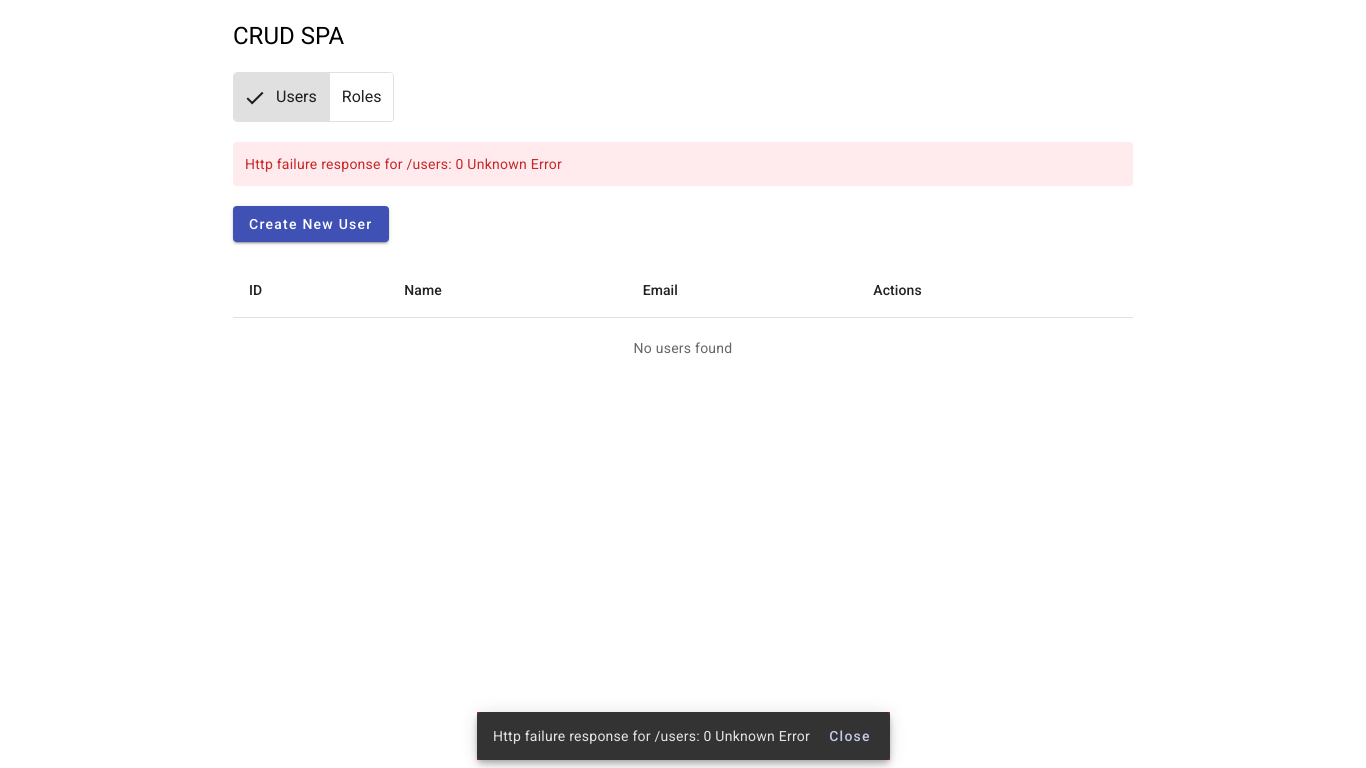
Test case: User CRUD SPA › US2: Create User › should show validation error for empty email
Click the button "Create New User": (311, 224) top-left (233, 206), bottom-right (389, 242)
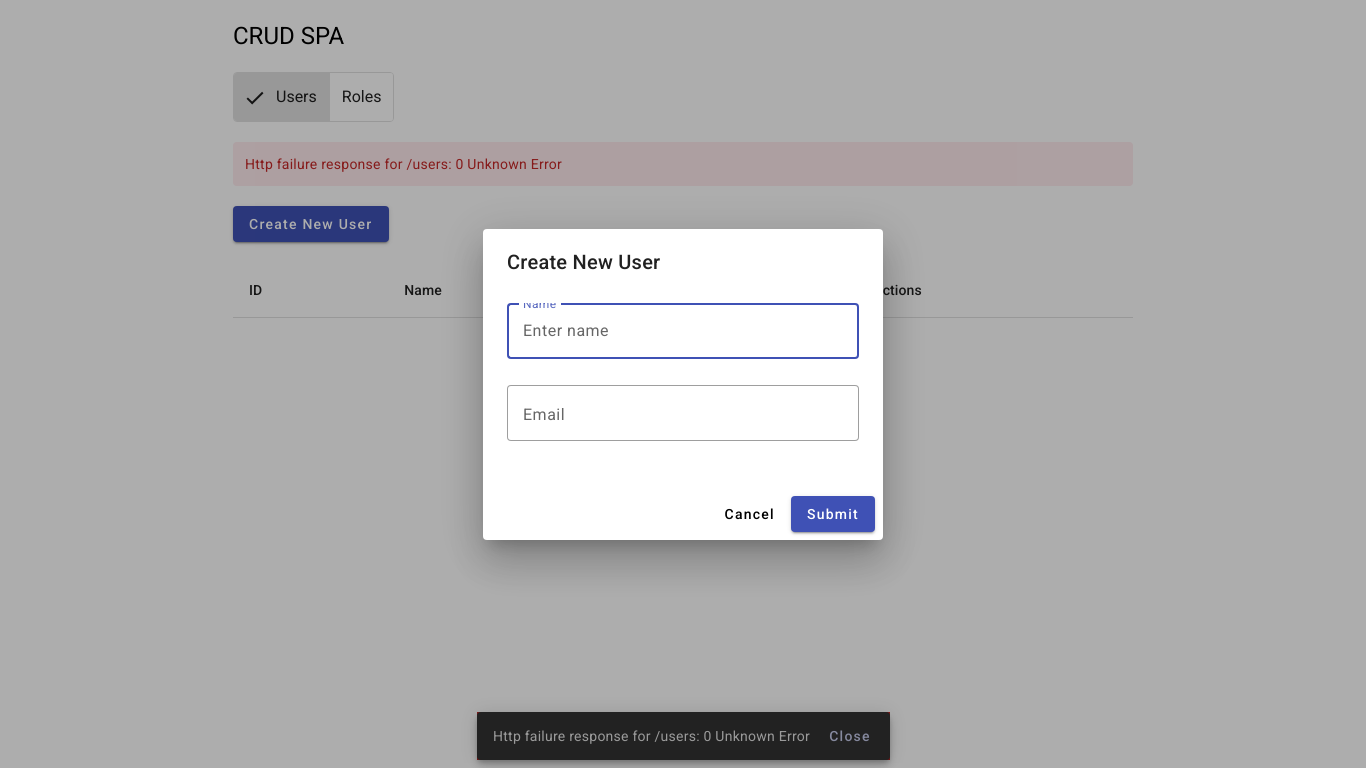
In the field named "name": (683, 331) top-left (523, 319), bottom-right (843, 343), type "Test User"
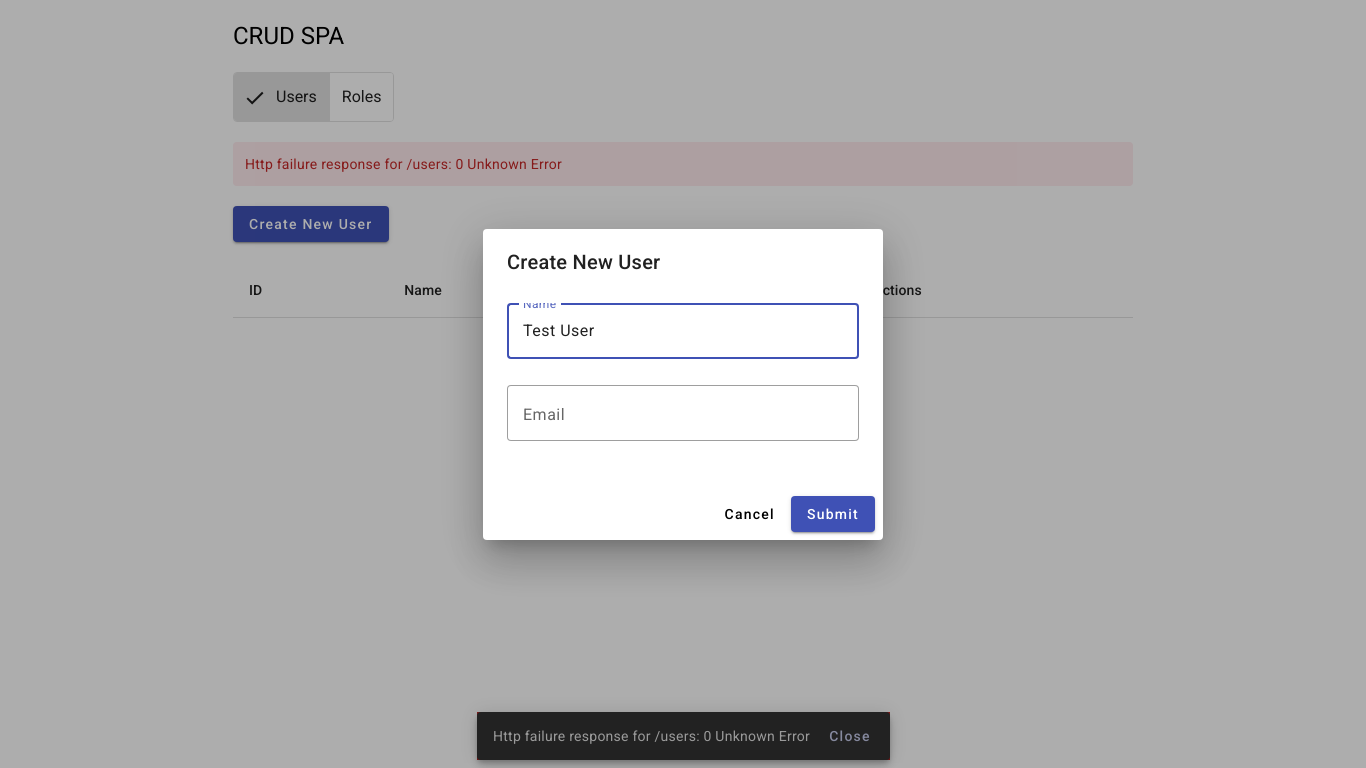
Click the button "Submit": (833, 514) top-left (791, 496), bottom-right (875, 532)
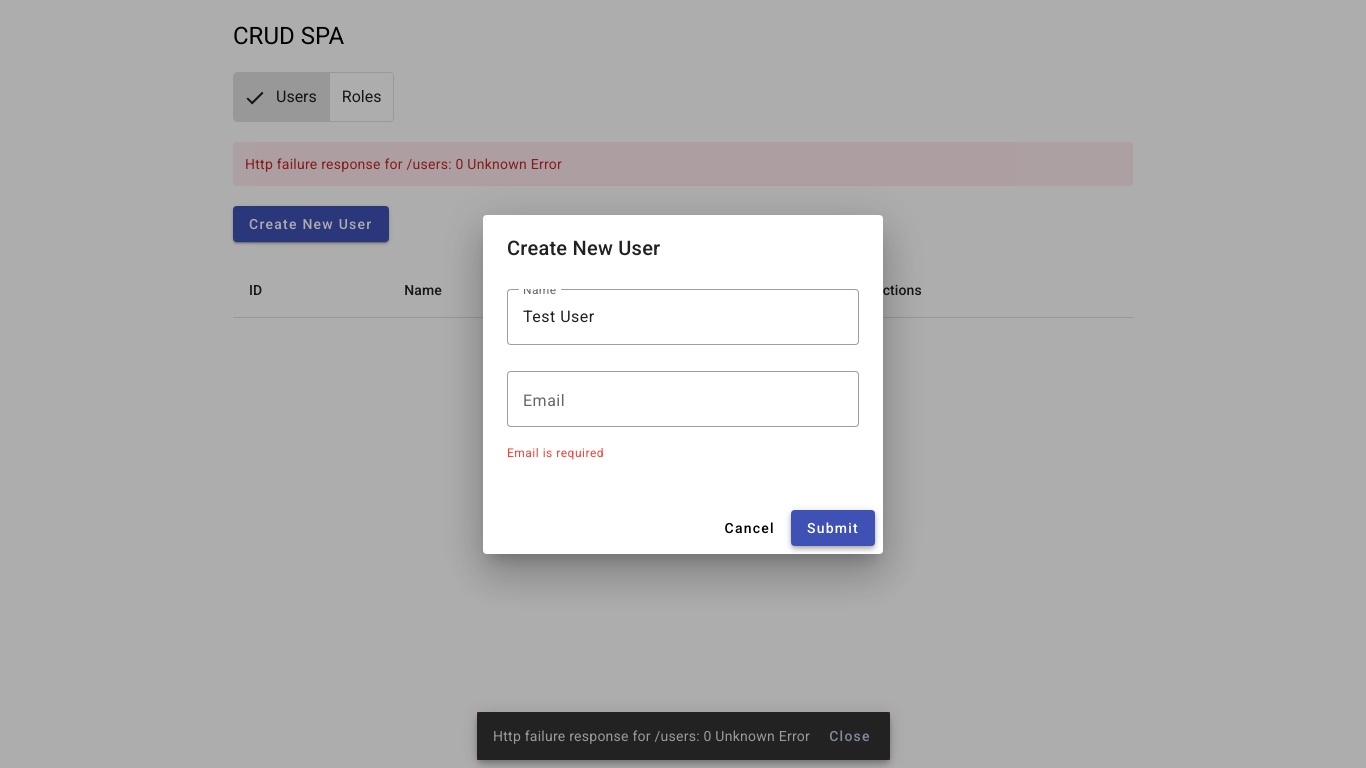
Expected: the text "Email is required" is shown, top-left (507, 446), bottom-right (604, 460)
